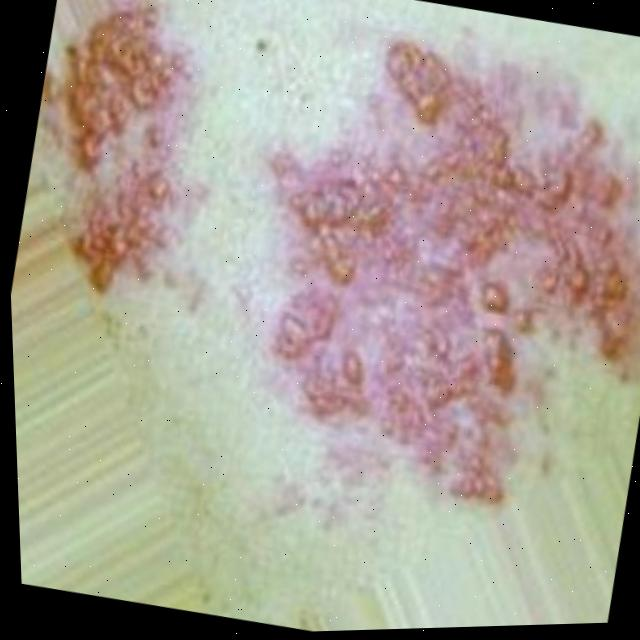Shingles: (202, 0, 640, 541), (11, 0, 244, 316)
